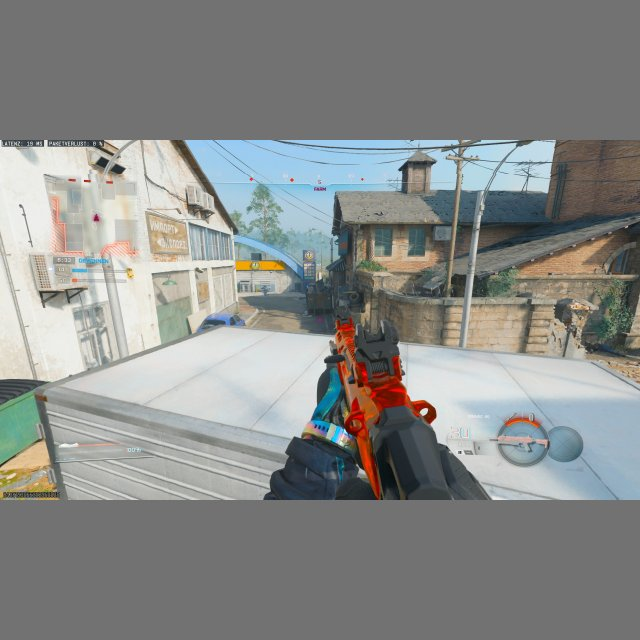player: (262, 284, 269, 296)
